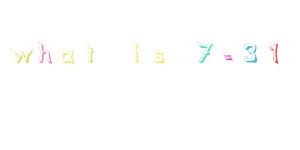-: (221, 52, 236, 64)
1: (267, 41, 282, 64)
3: (241, 41, 258, 64)
7: (195, 40, 213, 64)
a: (58, 48, 76, 64)
h: (36, 39, 53, 64)
i: (129, 42, 143, 64)
s: (151, 48, 166, 65)
t: (84, 43, 96, 64)
w: (9, 46, 33, 65)
